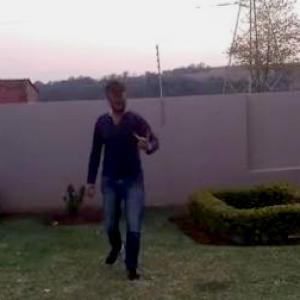takeoff-hand: (130, 126, 164, 156)
